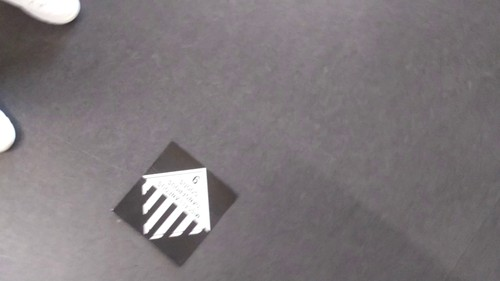misgoods: (134, 158, 216, 246)
